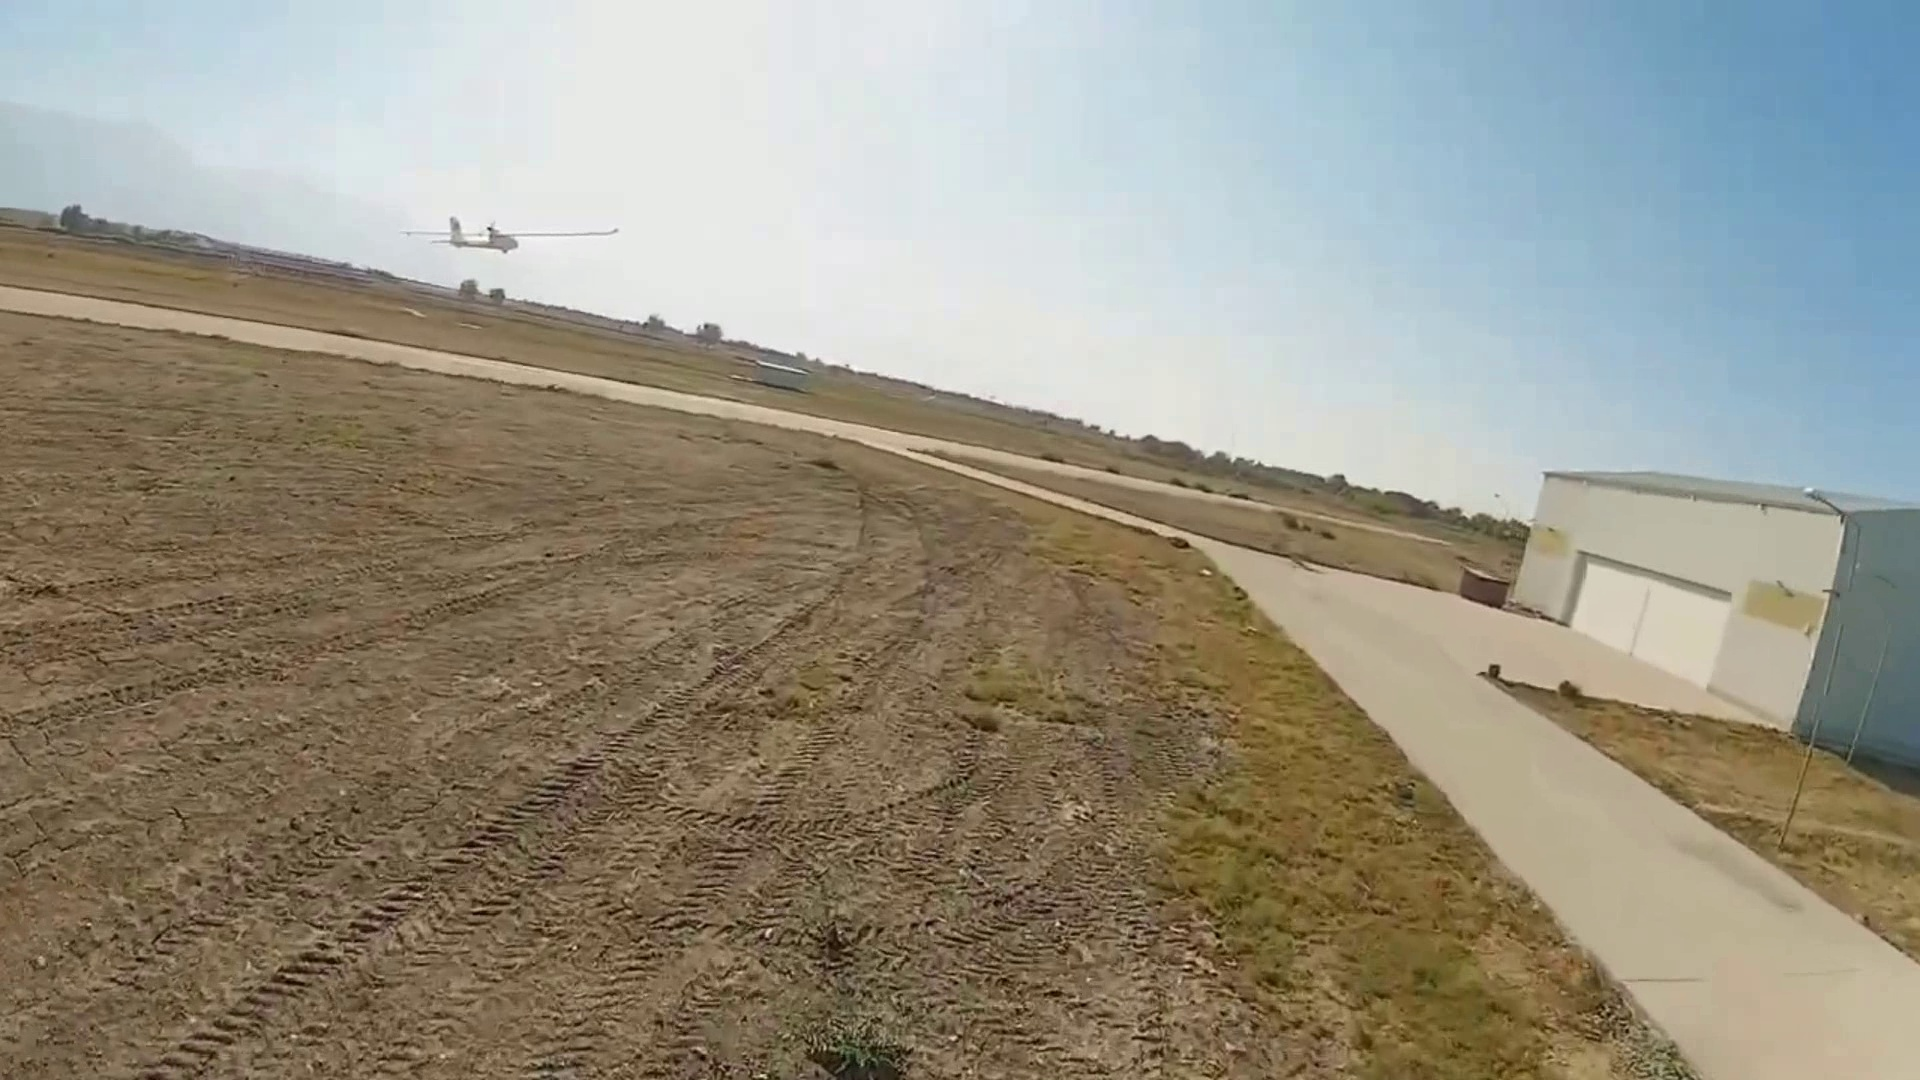airplane: (397, 211, 622, 254)
